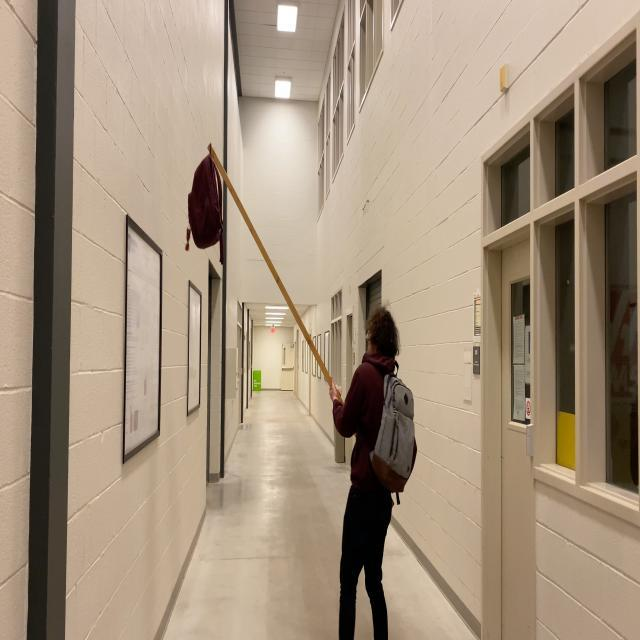Backpacks: (370, 369, 418, 496), (185, 144, 227, 256)
